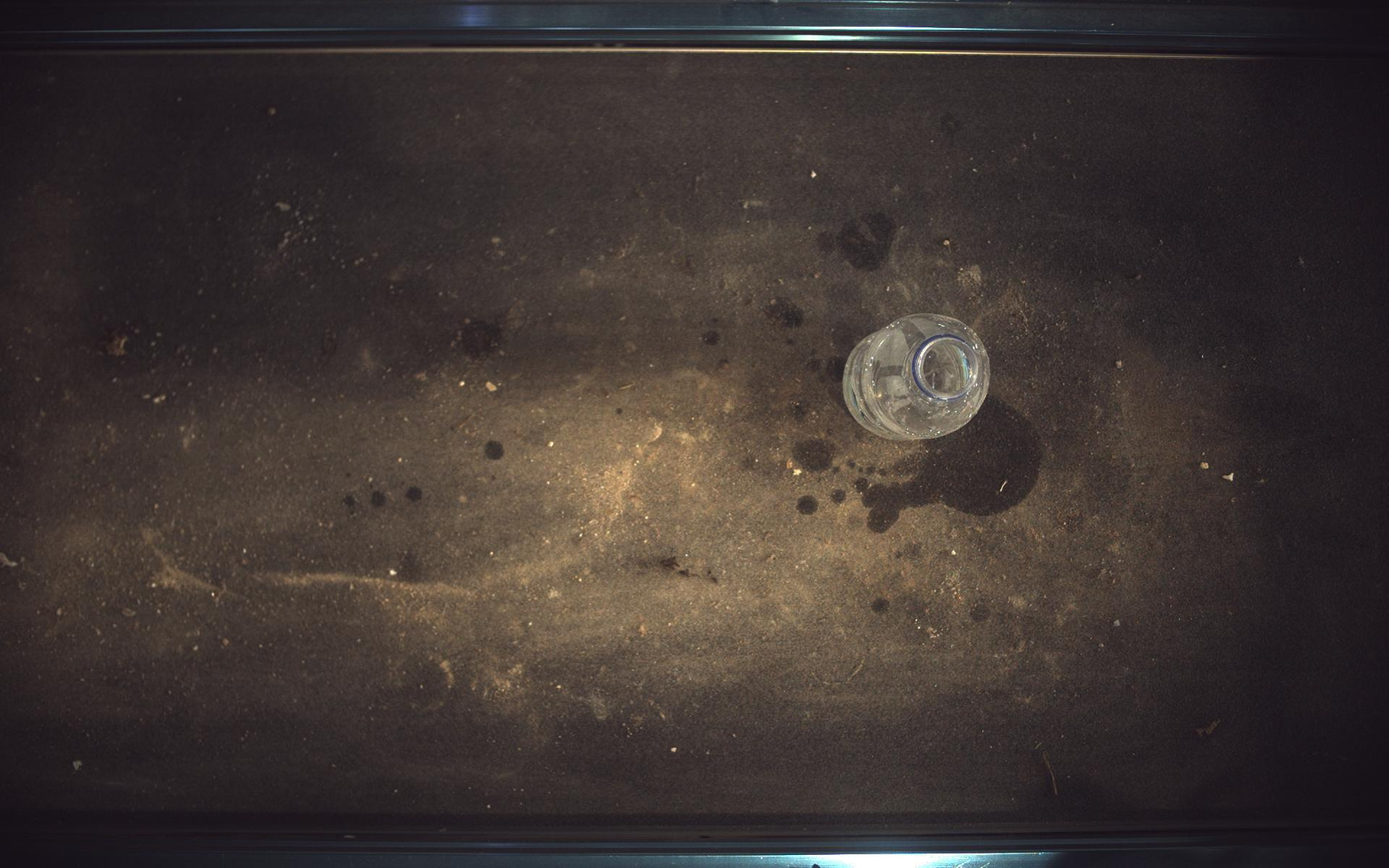general_w: (845, 313, 992, 441)
